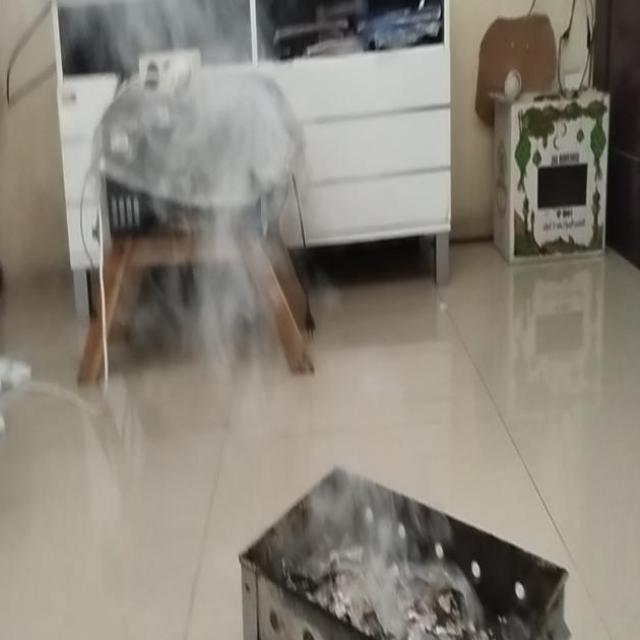fire: (166, 56, 276, 379), (296, 386, 442, 622)
